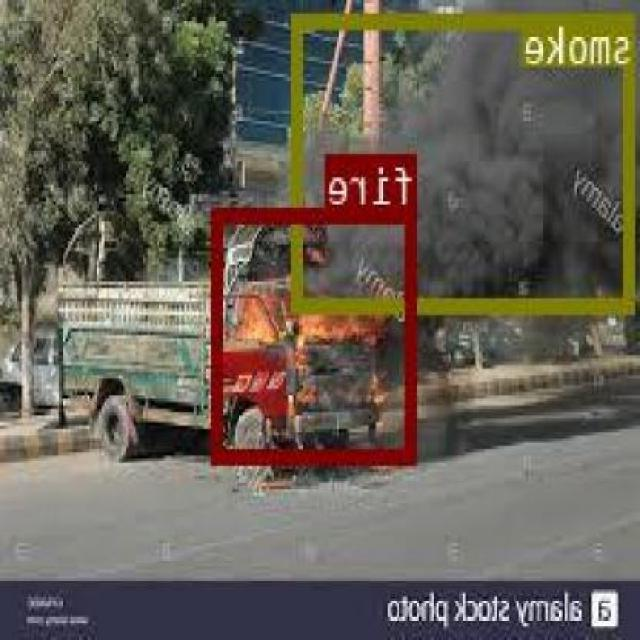Fire: (216, 206, 417, 460)
Smoke: (293, 11, 636, 310)
